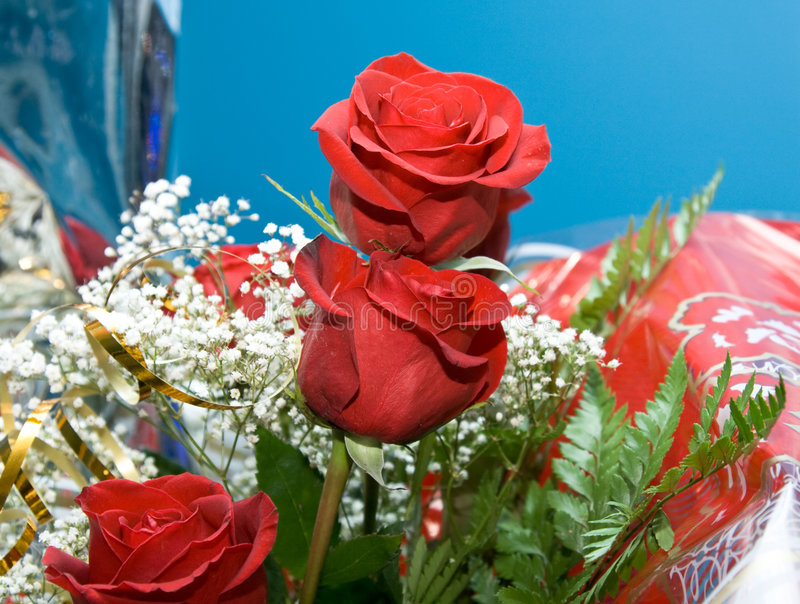RedRose: (287, 243, 525, 437), (331, 50, 523, 270), (48, 471, 286, 604)
